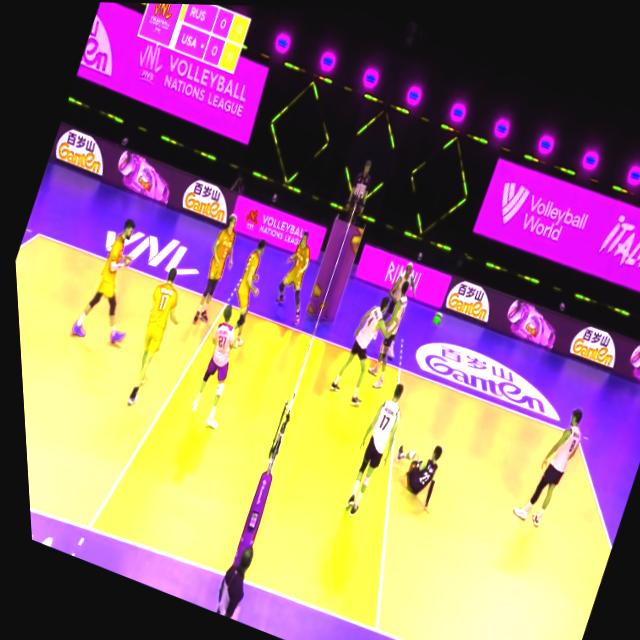player: (107, 260, 196, 414), (60, 211, 158, 349), (327, 368, 413, 521), (500, 394, 590, 532), (174, 296, 257, 432), (318, 288, 400, 408), (211, 234, 278, 354), (183, 208, 249, 329), (262, 224, 327, 321), (374, 426, 447, 512), (360, 278, 416, 380), (385, 261, 418, 305)
